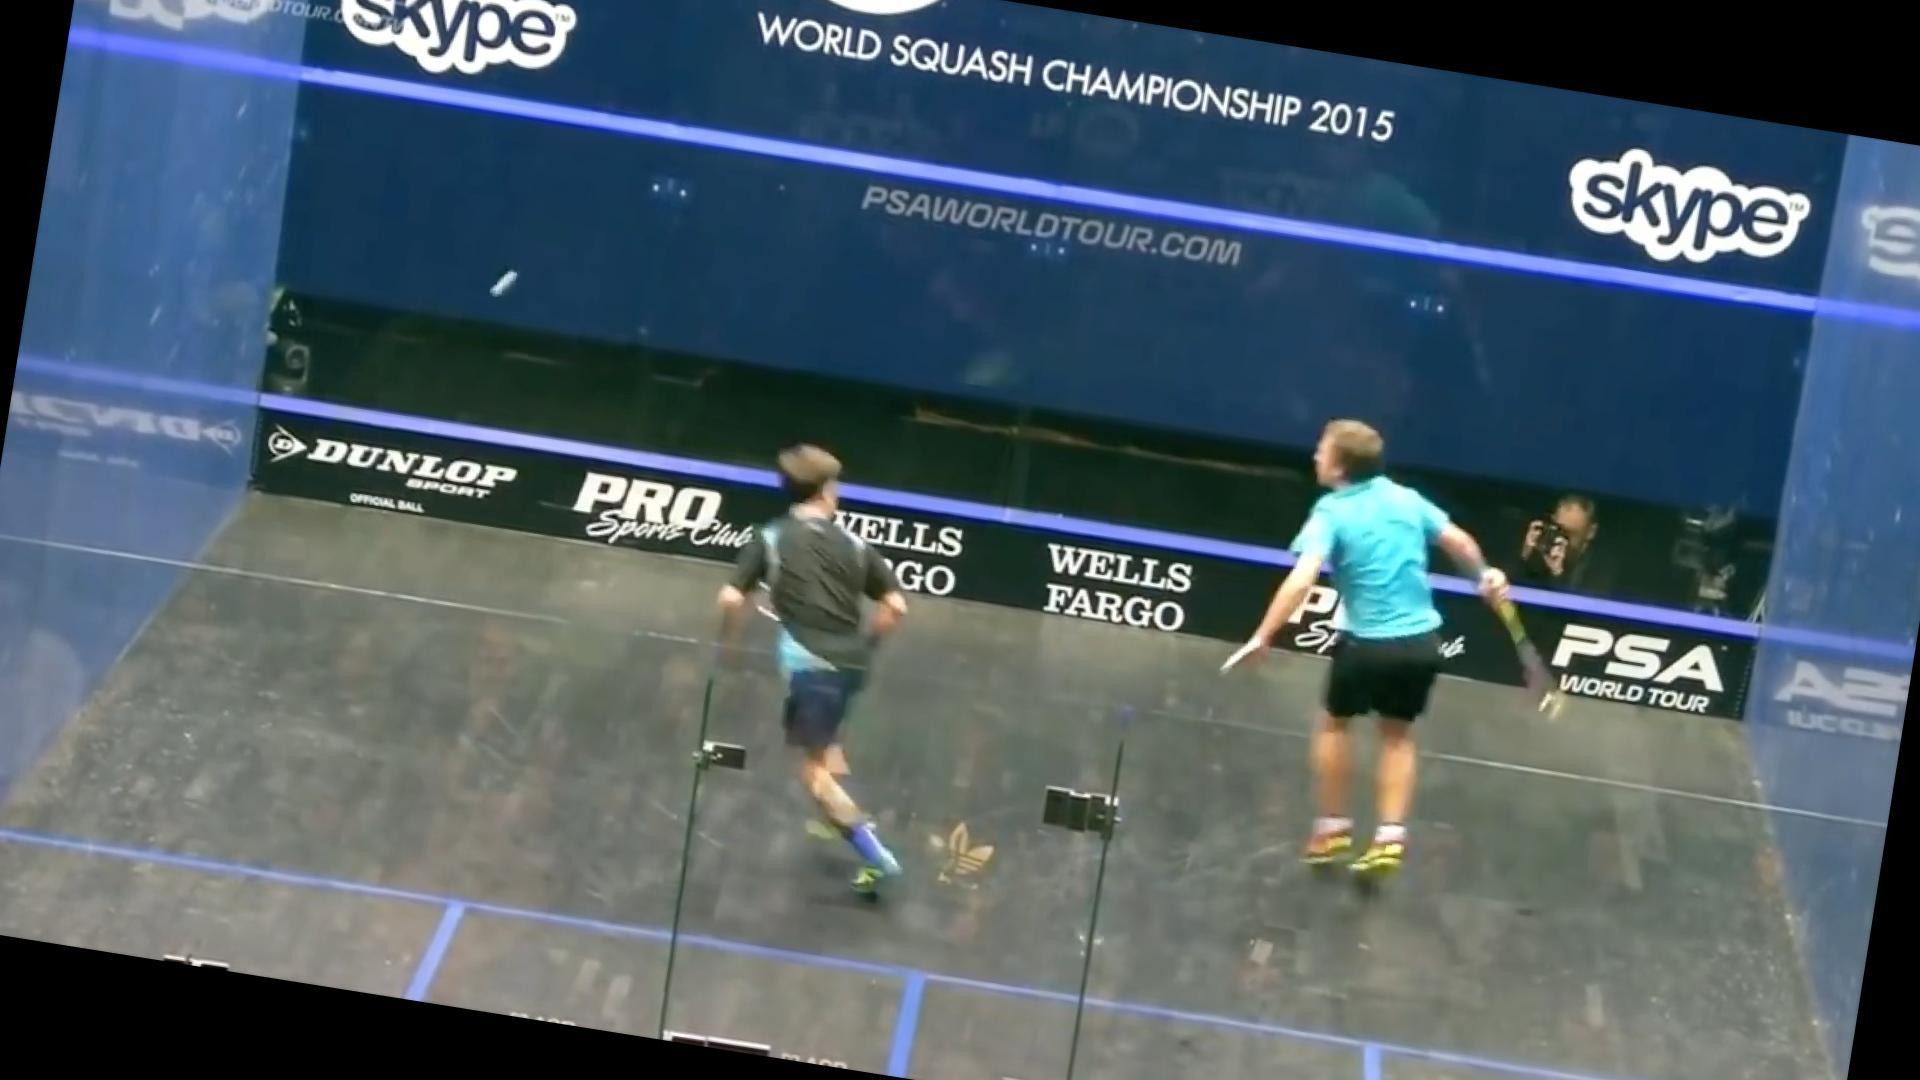Squash-Ball: (463, 252, 546, 323)
